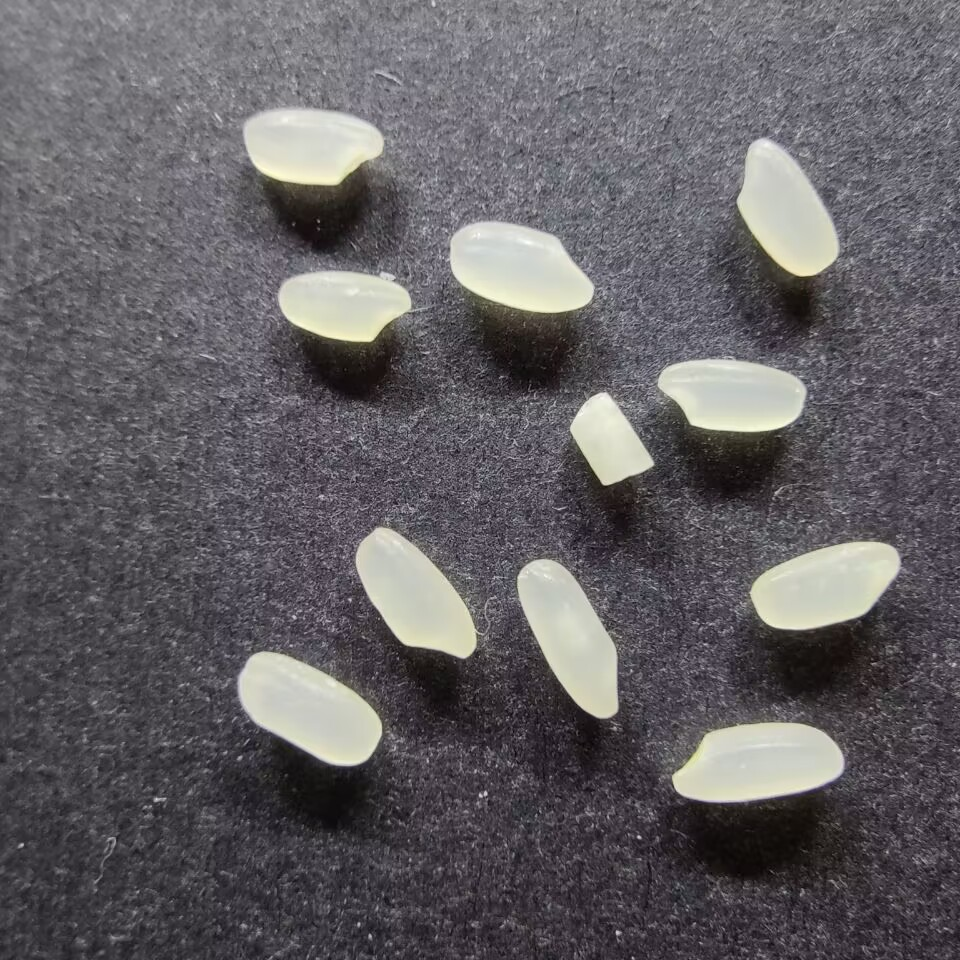broken: (567, 389, 654, 487)
rice: (512, 558, 622, 720), (237, 648, 383, 768), (350, 525, 478, 659), (734, 135, 840, 277), (670, 720, 846, 802), (748, 539, 906, 630), (447, 220, 595, 315), (654, 359, 809, 432), (241, 108, 386, 186), (275, 270, 413, 344)
